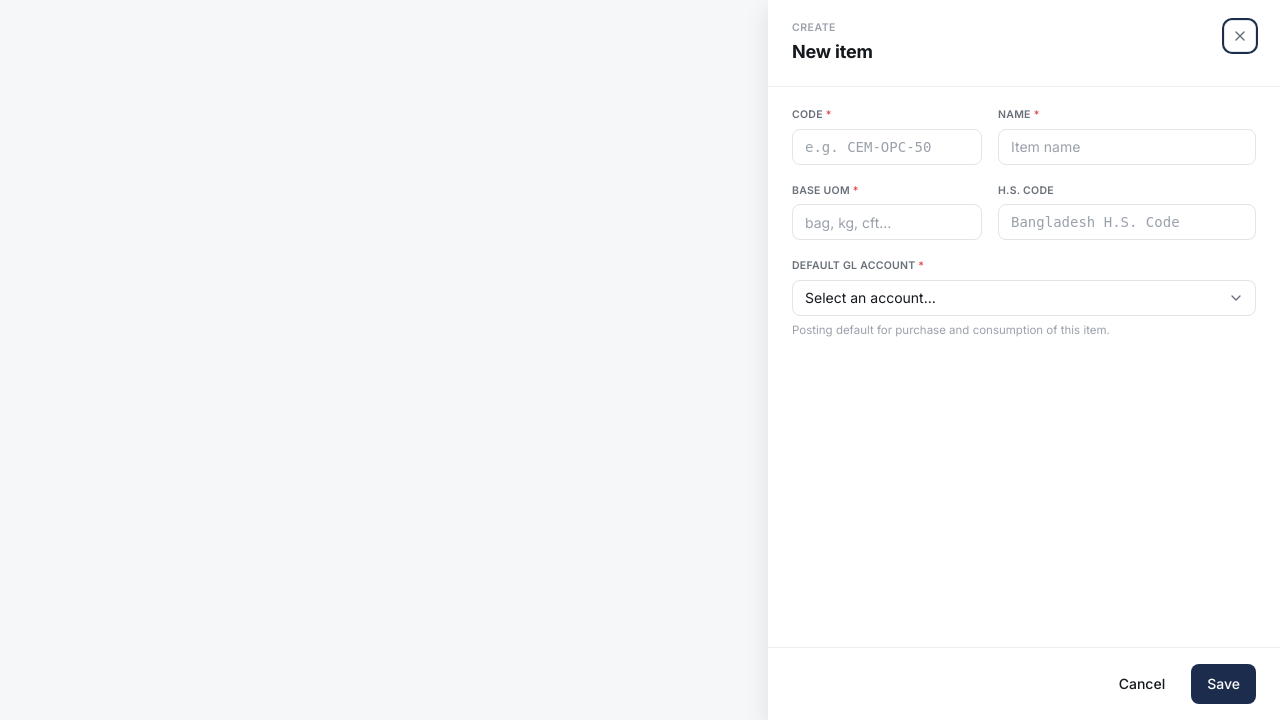
Test: ItemFormDrawer — validation + mapping › maps DUPLICATE_CODE to the code field
The image size is (1280, 720).
Type "MAT-1" into the field labelled "Code *". click: (887, 146)
box: [792,128,982,164]
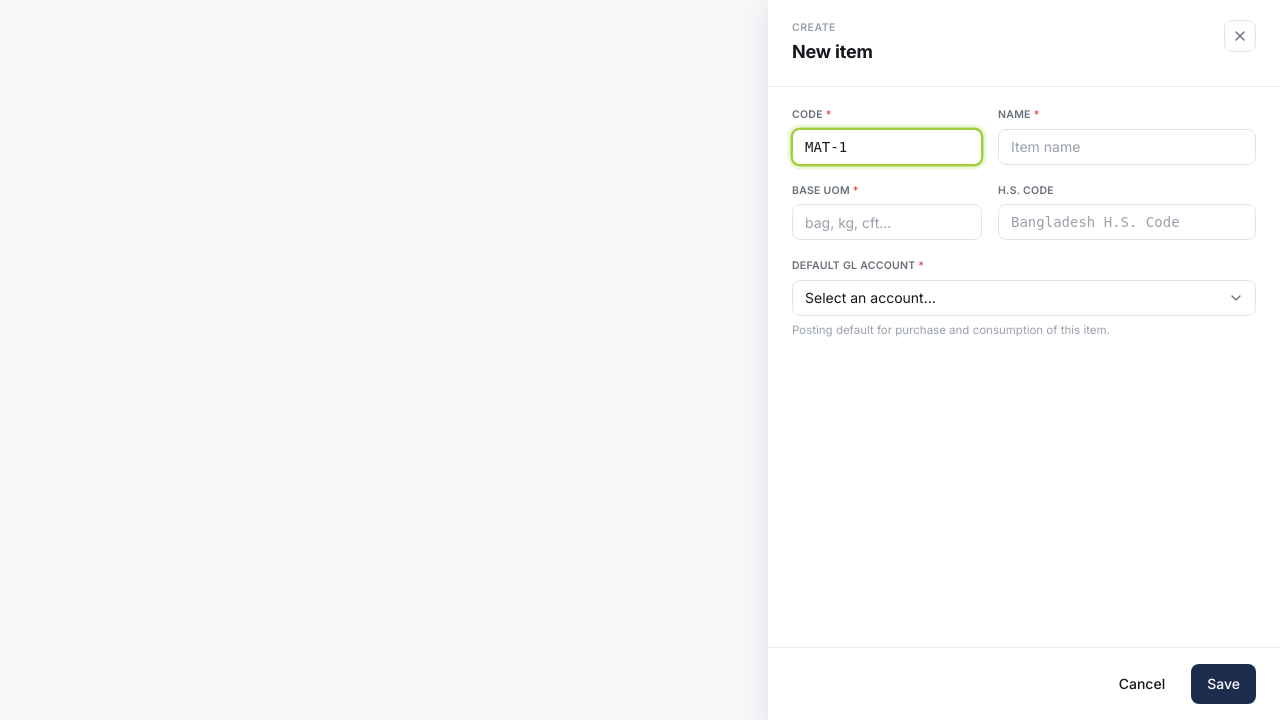
Type "Cement" into the field labelled "Name *". click: (1127, 146)
box: [998,128,1256,164]
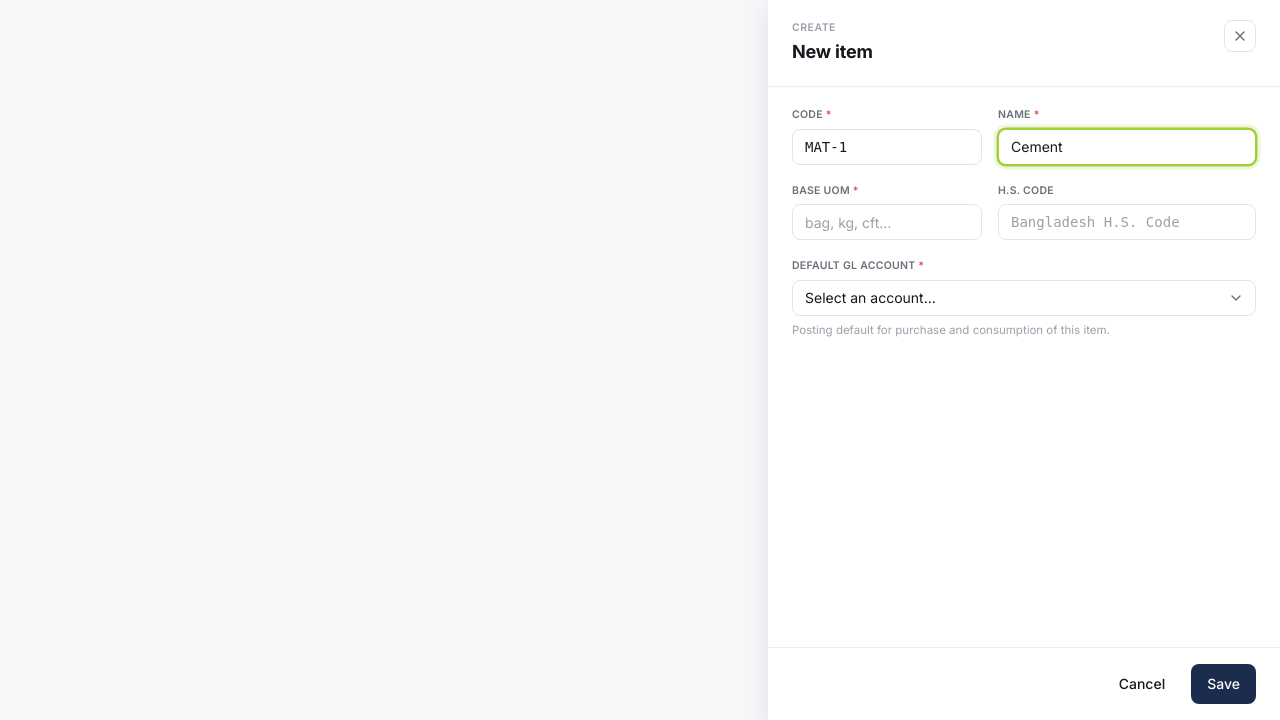
Type "Bag" into the field labelled "Base UoM *". click: (887, 222)
box: [792,204,982,240]
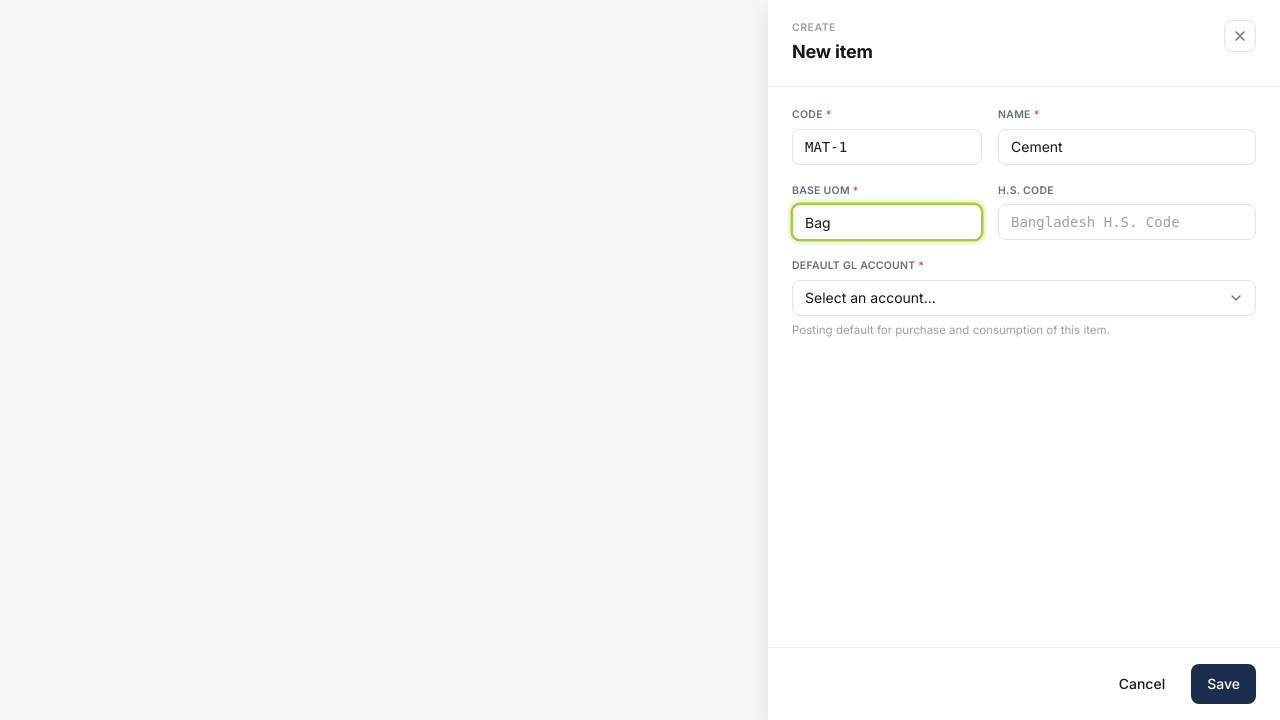
Select "5100 — Material Expense" in the dropdown labelled "Default GL account *". click: (1024, 298)
box: [792,280,1256,316]
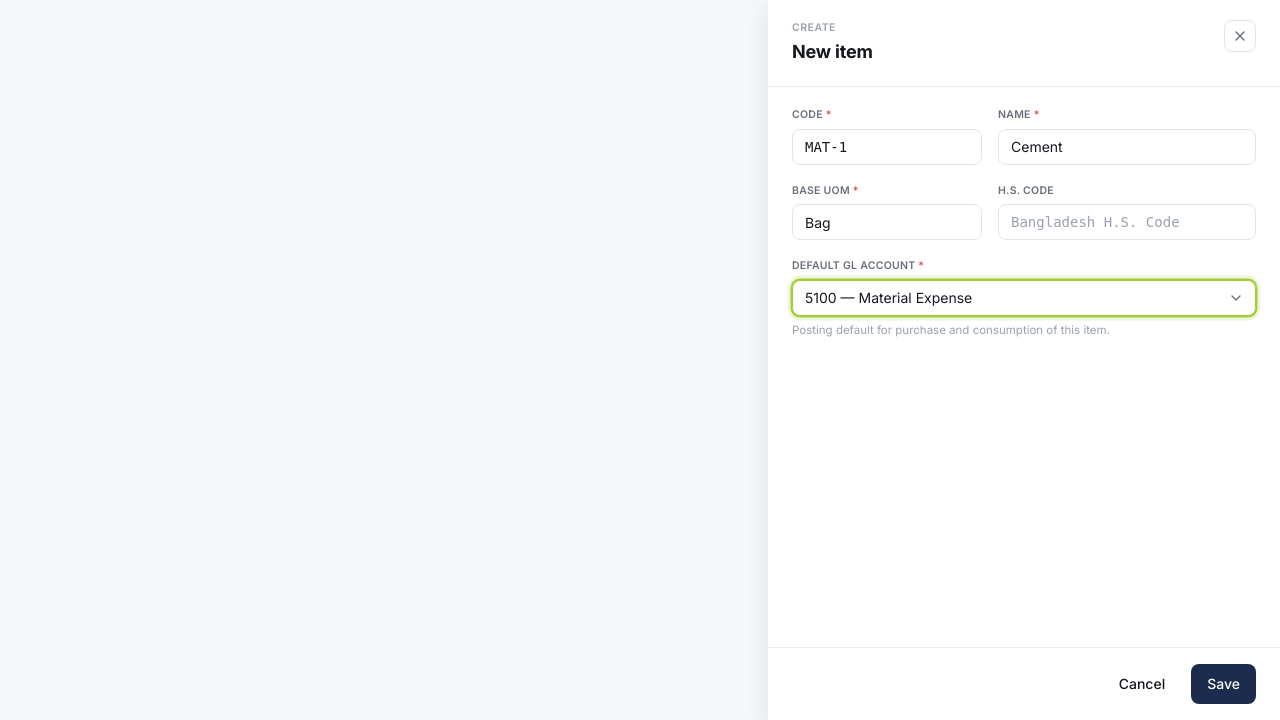
Click the button with test id "item-save". click: (1224, 684)
box: [1191,664,1256,704]
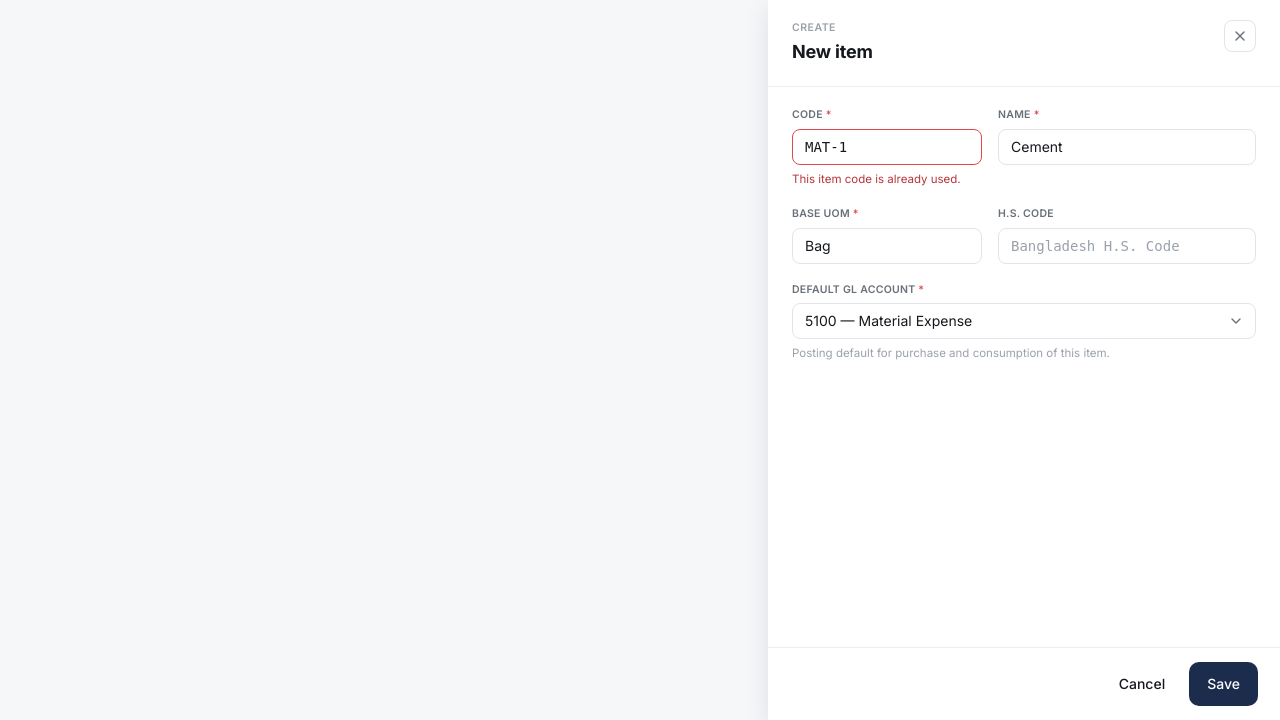
Expected: the text with test id "item-code-error" reads "This item code is already used.", [792,172,961,186]
